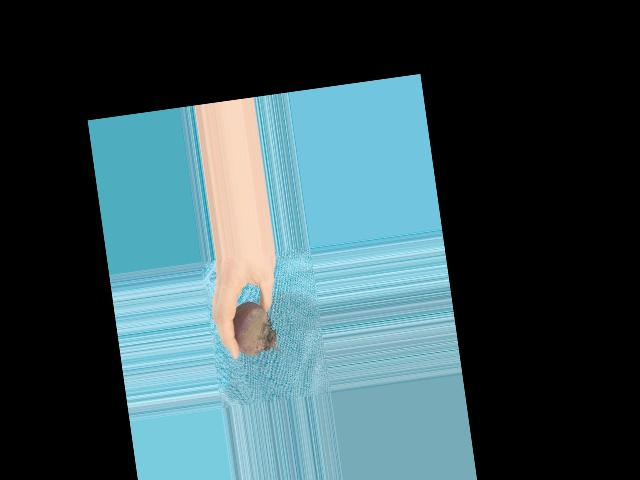beet: (230, 299, 280, 357)
